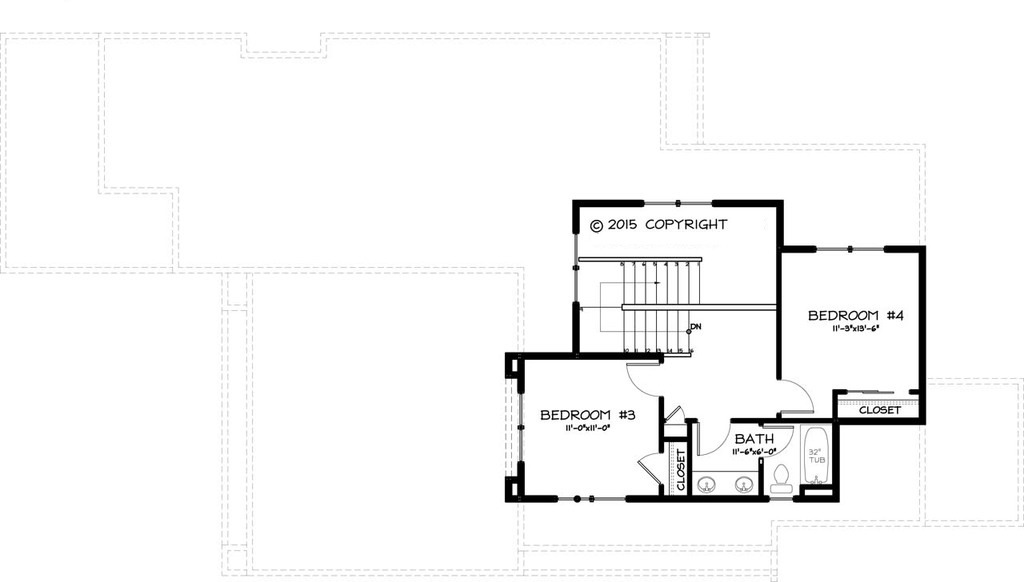door: (773, 375, 819, 423), (624, 360, 672, 401), (693, 419, 734, 462), (630, 447, 663, 489), (761, 427, 796, 457)
large_sink: (771, 462, 794, 501)
small_sink: (690, 469, 761, 499)
stairs: (563, 251, 702, 353)
tub: (799, 424, 837, 486)
window: (552, 485, 624, 508), (815, 241, 894, 257), (642, 196, 711, 210)
